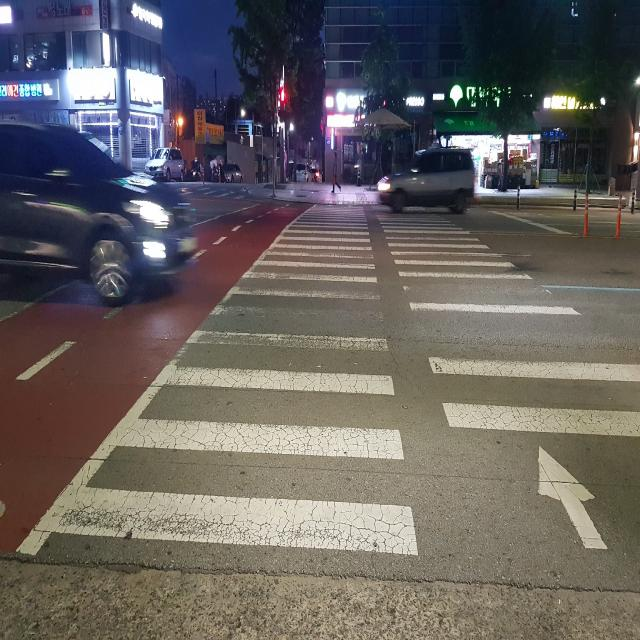빨간불: (278, 86, 287, 121)
횡단보도: (53, 203, 640, 560)
